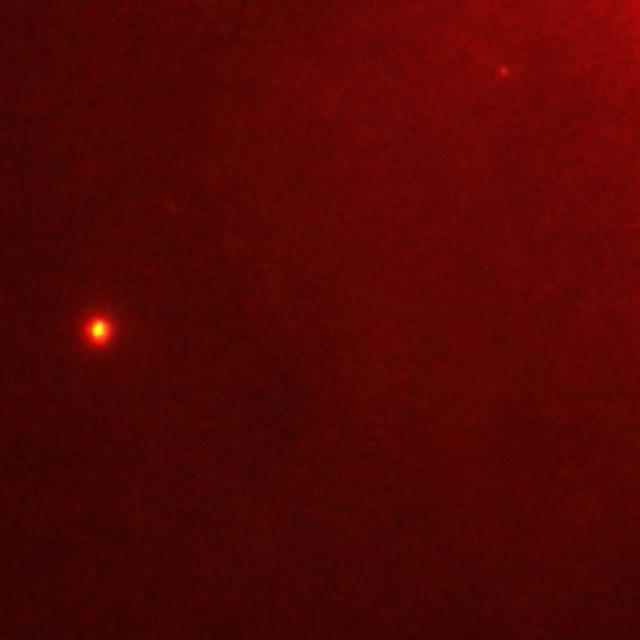Fragment: (88, 318, 109, 340)
